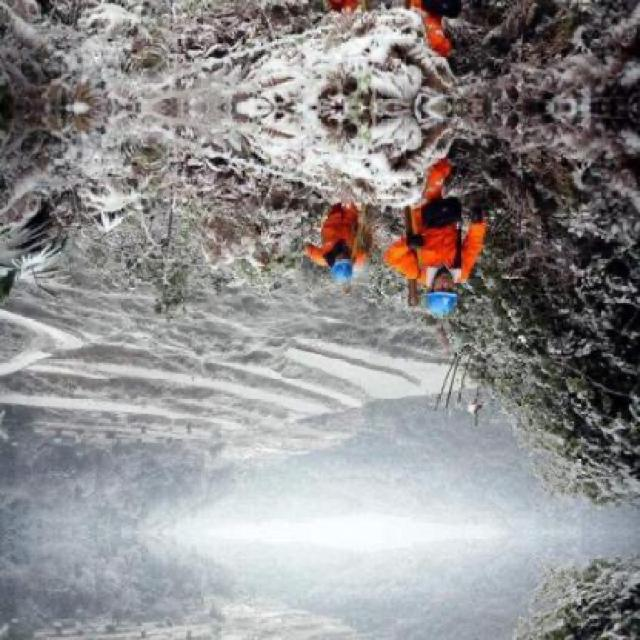con casco: (397, 235, 503, 324), (312, 235, 388, 289)
